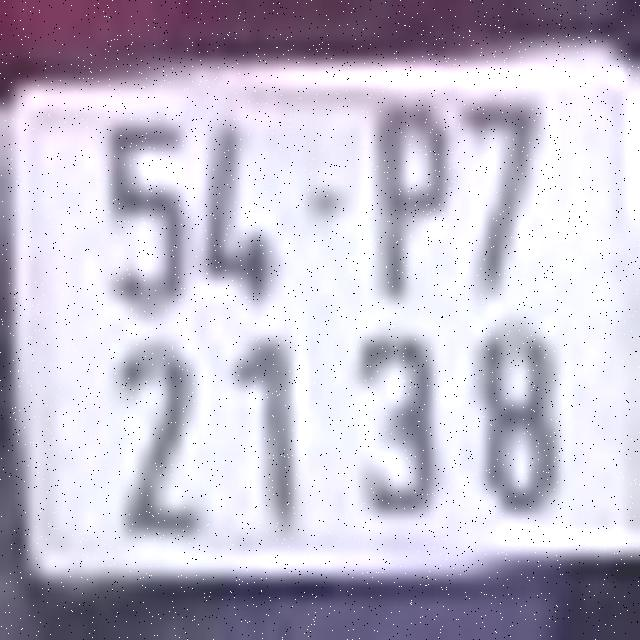1: (232, 333, 305, 533)
2: (115, 338, 204, 538)
3: (353, 329, 439, 518)
4: (201, 118, 280, 312)
5: (103, 118, 189, 315)
7: (461, 94, 543, 297)
8: (480, 322, 560, 516)
P: (370, 96, 452, 301)
